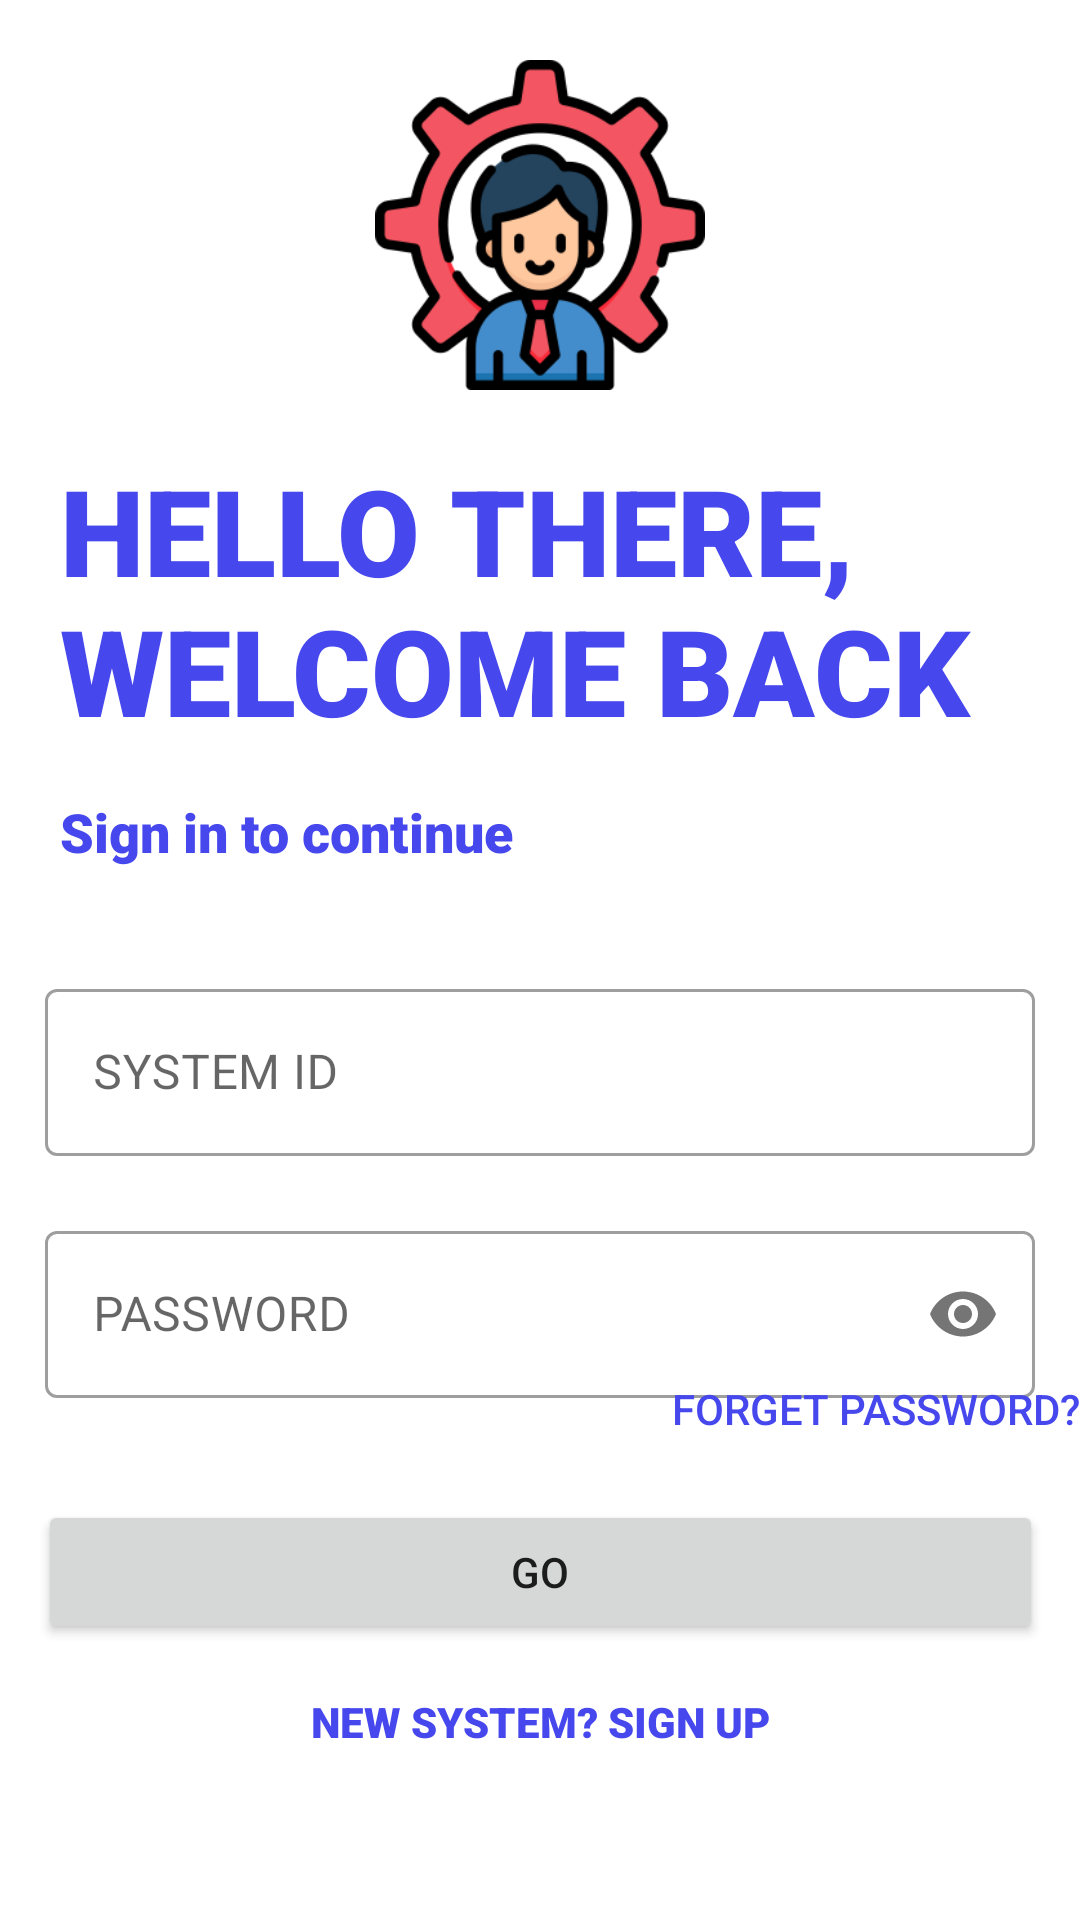

Icons on this 1080x1920 Android screen, each with the point to tap as [x,y]:
manager: [540,225]
